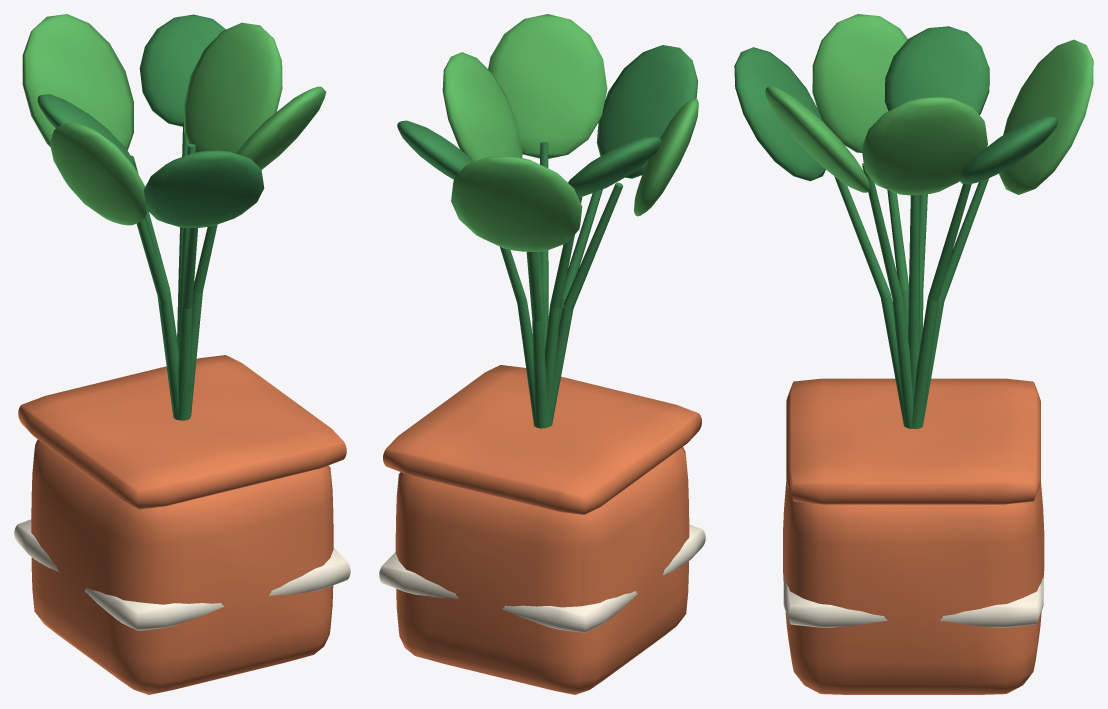
Rendered from plant.glb.
3 views of the same model, side by side, from view 1: azimuth 30°, elevation 25°; view 2: azimuth 150°, elevation 25°; view 3: azimuth 270°, elevation 25° (orthographic). The views are drawn at different scales.
Parts seen in each view (by area): view 1: PlantCartoon_Pot, PlantCartoon_Leaves, PlantCartoon_Stems; view 2: PlantCartoon_Pot, PlantCartoon_Leaves, PlantCartoon_Stems; view 3: PlantCartoon_Pot, PlantCartoon_Leaves, PlantCartoon_Stems.
Part boxes in pixels (bbox=[...]): PlantCartoon_Pot: bbox=[14, 355, 350, 694]; PlantCartoon_Leaves: bbox=[22, 14, 326, 227]; PlantCartoon_Stems: bbox=[125, 123, 217, 420]; PlantCartoon_Pot: bbox=[379, 365, 705, 694]; PlantCartoon_Leaves: bbox=[397, 14, 698, 251]; PlantCartoon_Stems: bbox=[500, 142, 623, 428]; PlantCartoon_Pot: bbox=[783, 378, 1044, 694]; PlantCartoon_Leaves: bbox=[734, 14, 1093, 195]; PlantCartoon_Stems: bbox=[834, 163, 988, 428].
Size of what is drawn, in the model's own units: 0.4115 by 0.9364 by 0.5073.
Materials: 6 (6 with a texture image).
